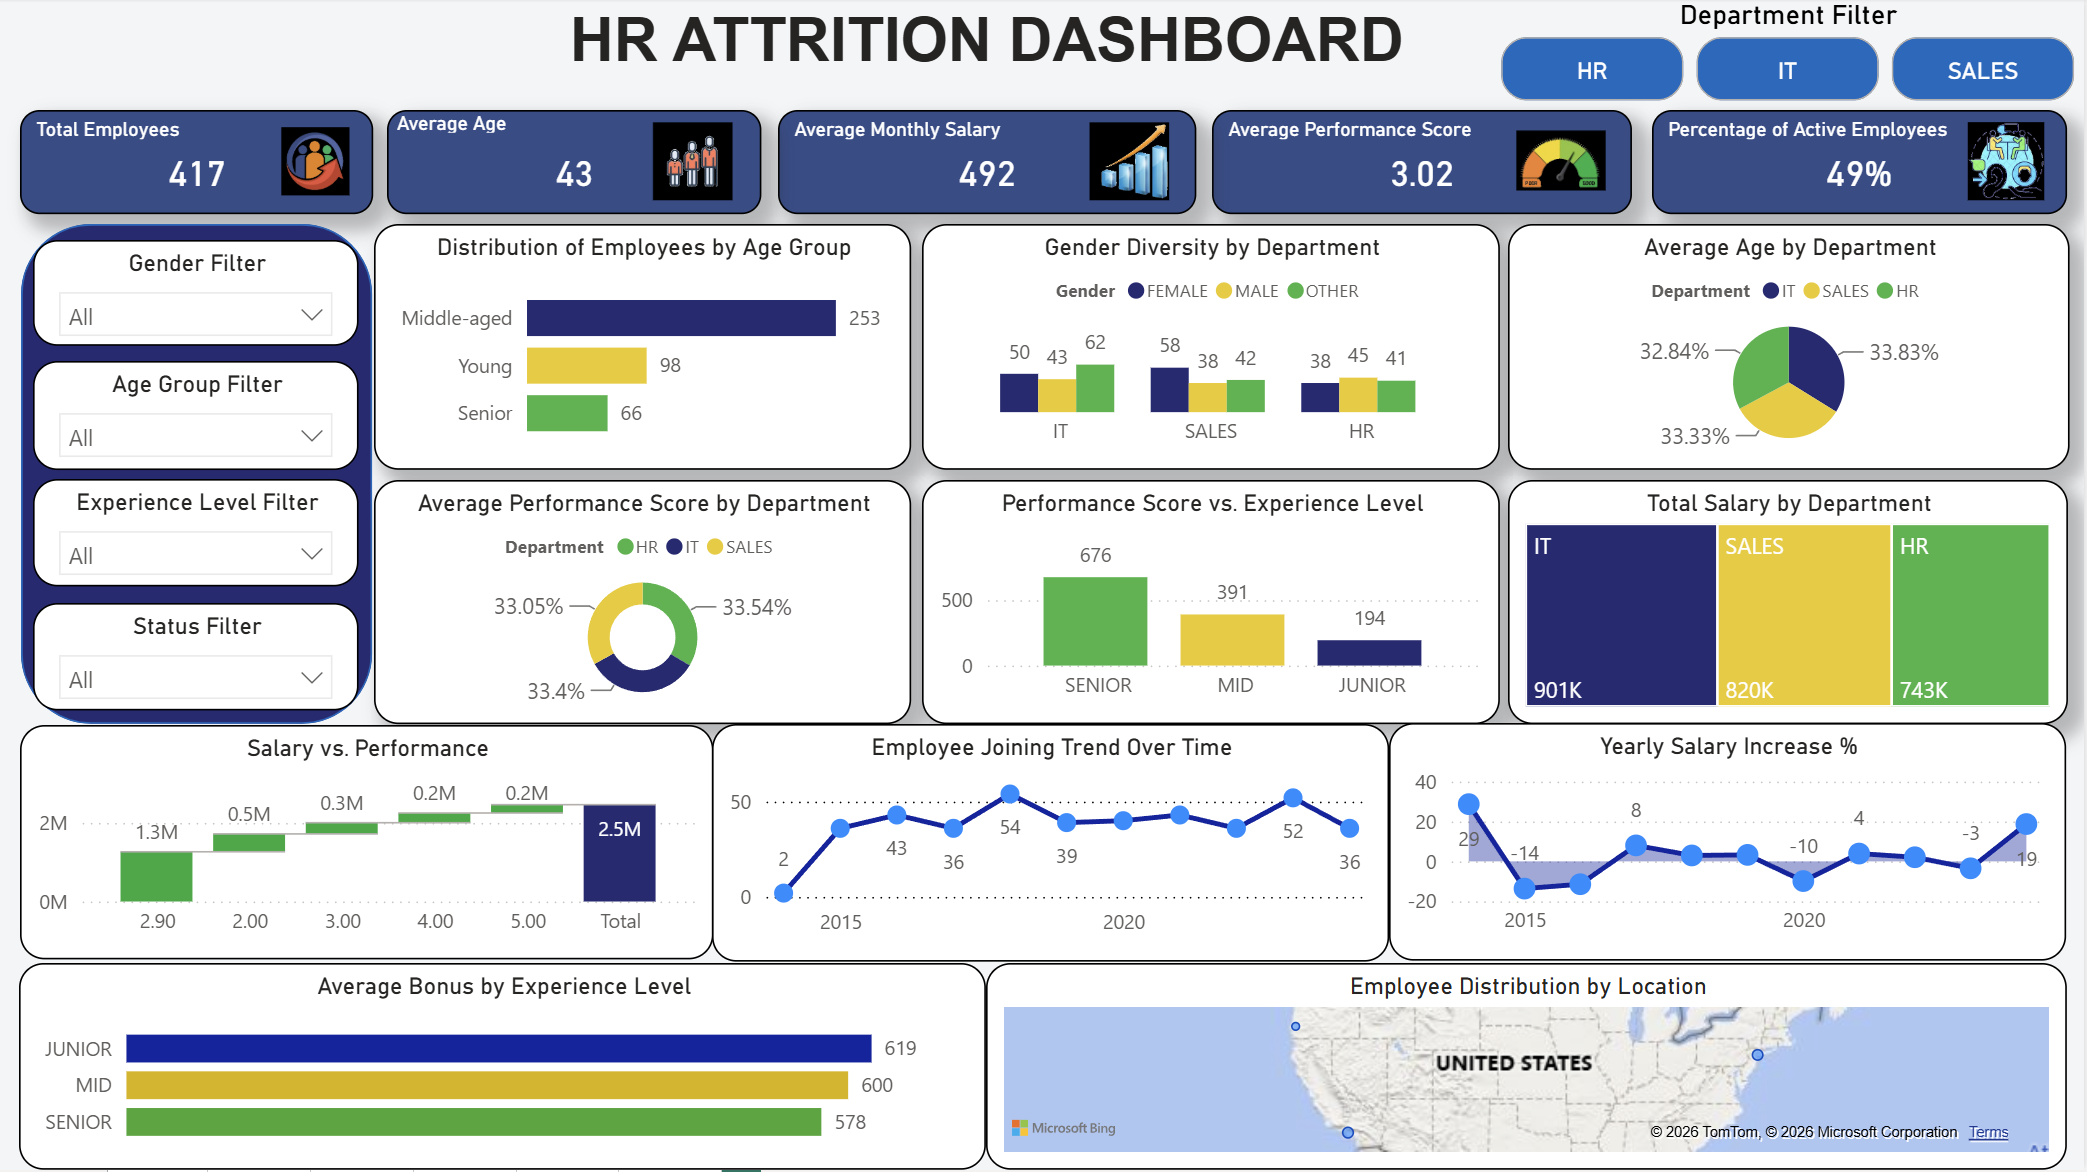

This screenshot's page, from the dashboard's own definition file:
{"tool":"powerbi","page":{"name":"Dashboard","canvas":[1280,720],"ordinal":0},"visuals":[{"type":"card","title":"Total Employees","fields":{"Values":["CountNonNull(Employee_dataset.ID)"]},"box":[12.1,68.8,217.2,63.9],"z":0},{"type":"card","title":"Average Performance Score","fields":{"Values":["Avg(Employee_dataset.Performance Score)"]},"box":[744.4,68.8,258.2,63.9],"z":1000},{"type":"card","title":"Average Monthly Salary","fields":{"Values":["Avg(Employee_dataset.Monthly Salary)"]},"box":[477.8,68.8,257,63.9],"z":2000},{"type":"card","title":"Percentage of Active Employees","fields":{"Values":["Employee_dataset.%_Active_Employees"]},"box":[1014.6,68.8,254.6,63.9],"z":3000},{"type":"card","title":"Average Age","fields":{"Values":["Avg(Employee_dataset.Age)"]},"box":[237.7,68.8,230.4,63.9],"z":4000},{"type":"textbox","box":[295.6,0,621.3,59.1],"z":5000},{"type":"advancedSlicerVisual","title":"Department Filter","fields":{"Values":["Employee_dataset.Department"]},"box":[917.2,0,363.1,68.8],"z":6000},{"type":"shape","box":[12.9,138.6,215.7,307.1],"z":7000},{"type":"slicer","title":"Gender Filter","fields":{"Values":["Employee_dataset.Gender"]},"box":[20,148.7,200,64.7],"z":8000},{"type":"slicer","title":"Status Filter","fields":{"Values":["Employee_dataset.Status"]},"box":[20,371.4,200,65.7],"z":9000},{"type":"slicer","title":"Age Group Filter","fields":{"Values":["Employee_dataset.Age Group"]},"box":[20,222.9,200,67.1],"z":10000},{"type":"slicer","title":"Experience Level Filter","fields":{"Values":["Employee_dataset.Experience Level"]},"box":[20,295.7,200,65.7],"z":11000},{"type":"barChart","title":"Distribution of Employees by Age Group","fields":{"Category":["Employee_dataset.Age_Category"],"Y":["Employee_dataset.Total_Employees"]},"box":[230,138.8,330,151.2],"z":12000},{"type":"clusteredColumnChart","title":"Gender Diversity by Department","fields":{"Category":["Employee_dataset.Department"],"Series":["Employee_dataset.Gender"],"Y":["Employee_dataset.Total_Employees"]},"box":[566.2,138.8,355,151.2],"z":13000},{"type":"pieChart","title":"Average Age by Department","fields":{"Category":["Employee_dataset.Department"],"Y":["Avg(Employee_dataset.Age)"]},"box":[926.2,138.8,345,151.2],"z":14000},{"type":"donutChart","title":"Average Performance Score by Department","fields":{"Category":["Employee_dataset.Department"],"Y":["Avg(Employee_dataset.Performance Score)"]},"box":[230,296.2,330,150],"z":15000},{"type":"columnChart","title":"Performance Score vs. Experience Level","fields":{"Category":["Employee_dataset.Experience Level"],"Y":["Sum(Employee_dataset.Performance Score)"]},"box":[566.2,296.2,355,150],"z":16000},{"type":"map","title":"Employee Distribution by Location","fields":{"Category":["Employee_dataset.Location"],"Size":["CountNonNull(Employee_dataset.Employee ID)"]},"box":[605.7,592.9,664.3,127.1],"z":17000},{"type":"treemap","title":"Total Salary by Department","fields":{"Group":["Employee_dataset.Department"],"Values":["Sum(Employee_dataset.Salary)"]},"box":[926.2,296.2,343.8,150],"z":18000},{"type":"waterfallChart","title":"Salary vs. Performance","fields":{"Category":["Employee_dataset.Performance Score"],"Y":["Sum(Employee_dataset.Salary)"]},"box":[12.2,446.7,425.6,144.4],"z":19000},{"type":"barChart","title":"Average Bonus by Experience Level","fields":{"Category":["Employee_dataset.Experience Level"],"Y":["Avg(Employee_dataset.Bonus)"]},"box":[11.4,592.9,594.3,127.1],"z":20000},{"type":"lineChart","title":"Employee Joining Trend Over Time","fields":{"Category":["Employee_dataset.Year Joined"],"Y":["CountNonNull(Employee_dataset.Employee ID)"]},"box":[437.1,445.7,415.7,145.7],"z":21000},{"type":"areaChart","title":"Yearly Salary Increase %","fields":{"Category":["Employee_dataset.Year Joined"],"Y":["Avg(Employee_dataset.Salary Increase %)"]},"box":[853.3,445.6,415.6,145.6],"z":22000},{"type":"image","box":[167.8,71.1,52.2,58.3],"z":23000},{"type":"image","box":[395,71.2,61.2,58.1],"z":25000},{"type":"image","box":[662.3,71.5,63.1,57.7],"z":26000},{"type":"image","box":[926.2,71.5,65.4,57.7],"z":27000},{"type":"image","box":[1203.1,71.5,59.2,57.7],"z":28000}]}

Visuals, with their boxes in screenshot pixels (x1, y1, x2, y2), scaled from the page's 1280x720 canvas onto the 2087x1172 screenshot:
"Total Employees" card: bbox(20, 112, 374, 216)
"Average Performance Score" card: bbox(1214, 112, 1635, 216)
"Average Monthly Salary" card: bbox(779, 112, 1198, 216)
"Percentage of Active Employees" card: bbox(1654, 112, 2069, 216)
"Average Age" card: bbox(388, 112, 763, 216)
textbox: bbox(482, 0, 1495, 96)
"Department Filter" advancedSlicerVisual: bbox(1495, 0, 2086, 112)
shape: bbox(21, 226, 373, 726)
"Gender Filter" slicer: bbox(33, 242, 359, 347)
"Status Filter" slicer: bbox(33, 605, 359, 712)
"Age Group Filter" slicer: bbox(33, 363, 359, 472)
"Experience Level Filter" slicer: bbox(33, 481, 359, 588)
"Distribution of Employees by Age Group" barChart: bbox(375, 226, 913, 472)
"Gender Diversity by Department" clusteredColumnChart: bbox(923, 226, 1502, 472)
"Average Age by Department" pieChart: bbox(1510, 226, 2073, 472)
"Average Performance Score by Department" donutChart: bbox(375, 482, 913, 726)
"Performance Score vs. Experience Level" columnChart: bbox(923, 482, 1502, 726)
"Employee Distribution by Location" map: bbox(988, 965, 2071, 1171)
"Total Salary by Department" treemap: bbox(1510, 482, 2071, 726)
"Salary vs. Performance" waterfallChart: bbox(20, 727, 714, 962)
"Average Bonus by Experience Level" barChart: bbox(19, 965, 988, 1171)
"Employee Joining Trend Over Time" lineChart: bbox(713, 726, 1390, 963)
"Yearly Salary Increase %" areaChart: bbox(1391, 725, 2069, 962)
image: bbox(274, 116, 359, 211)
image: bbox(644, 116, 744, 210)
image: bbox(1080, 116, 1183, 210)
image: bbox(1510, 116, 1617, 210)
image: bbox(1962, 116, 2058, 210)
